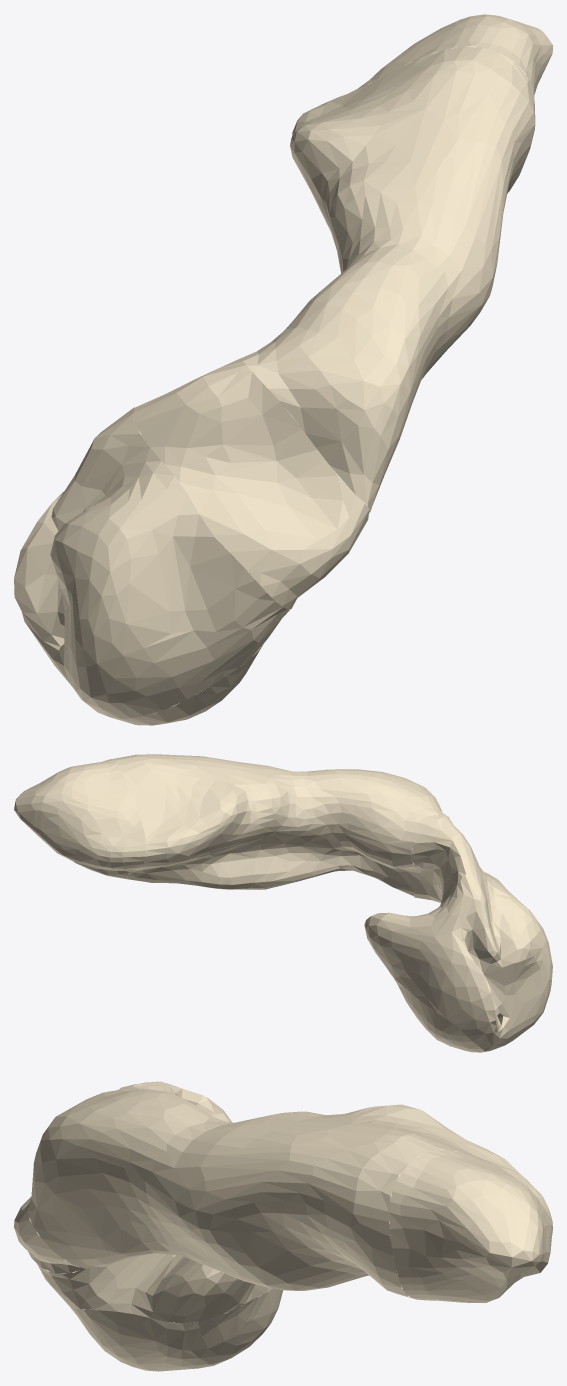
Rendered from VH_M_Pancreas_0.2.glb.
3 renders of one model, top to bottom at view 1: azimuth 30°, elevation 25°; view 2: azimuth 150°, elevation 25°; view 3: azimuth 270°, elevation 25°, orthographic. The views are drawn at different scales.
Parts seen in each view (by area): view 1: VH_M_body_of_pancreas, VH_M_head_of_pancreas, VH_M_neck_of_pancreas, VH_M_tail_of_pancreas, VH_M_uncinate_process_of_the_pancreas; view 2: VH_M_body_of_pancreas, VH_M_head_of_pancreas, VH_M_tail_of_pancreas, VH_M_neck_of_pancreas, VH_M_uncinate_process_of_the_pancreas; view 3: VH_M_body_of_pancreas, VH_M_tail_of_pancreas, VH_M_head_of_pancreas, VH_M_uncinate_process_of_the_pancreas, VH_M_neck_of_pancreas.
Boxes of the visible parts, left/top/right/bottom form: VH_M_body_of_pancreas: left=241, top=46, right=535, bottom=513; VH_M_head_of_pancreas: left=14, top=407, right=289, bottom=718; VH_M_neck_of_pancreas: left=133, top=358, right=369, bottom=609; VH_M_tail_of_pancreas: left=335, top=14, right=552, bottom=98; VH_M_uncinate_process_of_the_pancreas: left=112, top=644, right=263, bottom=725; VH_M_body_of_pancreas: left=112, top=754, right=446, bottom=896; VH_M_head_of_pancreas: left=364, top=874, right=552, bottom=1051; VH_M_tail_of_pancreas: left=14, top=759, right=145, bottom=879; VH_M_neck_of_pancreas: left=411, top=816, right=501, bottom=904; VH_M_uncinate_process_of_the_pancreas: left=392, top=976, right=484, bottom=1052; VH_M_body_of_pancreas: left=27, top=1084, right=520, bottom=1297; VH_M_tail_of_pancreas: left=389, top=1149, right=552, bottom=1302; VH_M_head_of_pancreas: left=36, top=1097, right=271, bottom=1323; VH_M_uncinate_process_of_the_pancreas: left=70, top=1289, right=283, bottom=1371; VH_M_neck_of_pancreas: left=14, top=1081, right=214, bottom=1273.
Size of the model in its own units: 0.1117 by 0.0721 by 0.0837.
